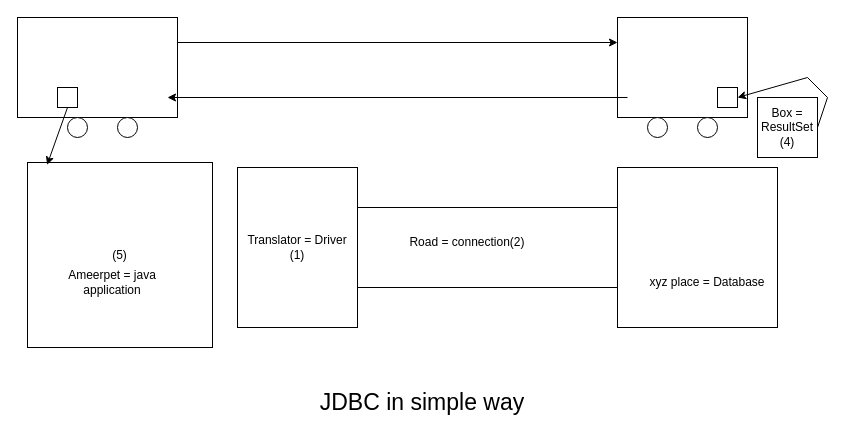
The diagram is 853 pixels wide and 435 high, and some of its shapes have lost their labels. The box of each missing label's shape, as (x1, y1, x2, y2) in pixels:
Cheap Gold and Diamond: (616, 166, 778, 328)
vehicle = Statement Object (3): (16, 16, 178, 118)
